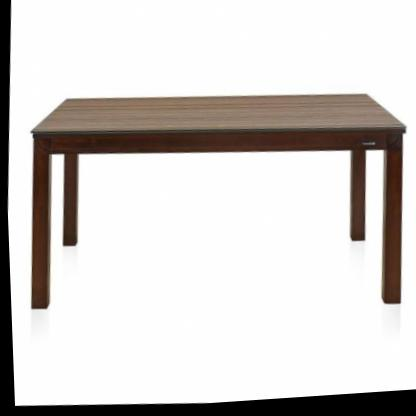Table: (11, 65, 416, 366)
